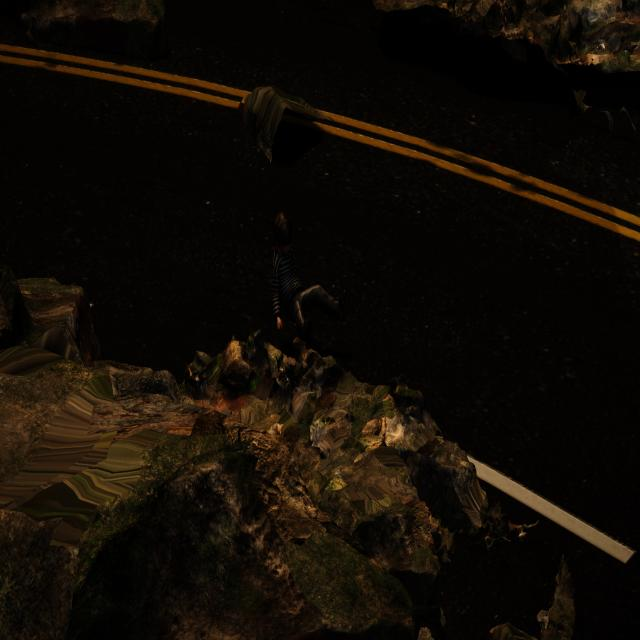Human: (261, 210, 347, 348)
